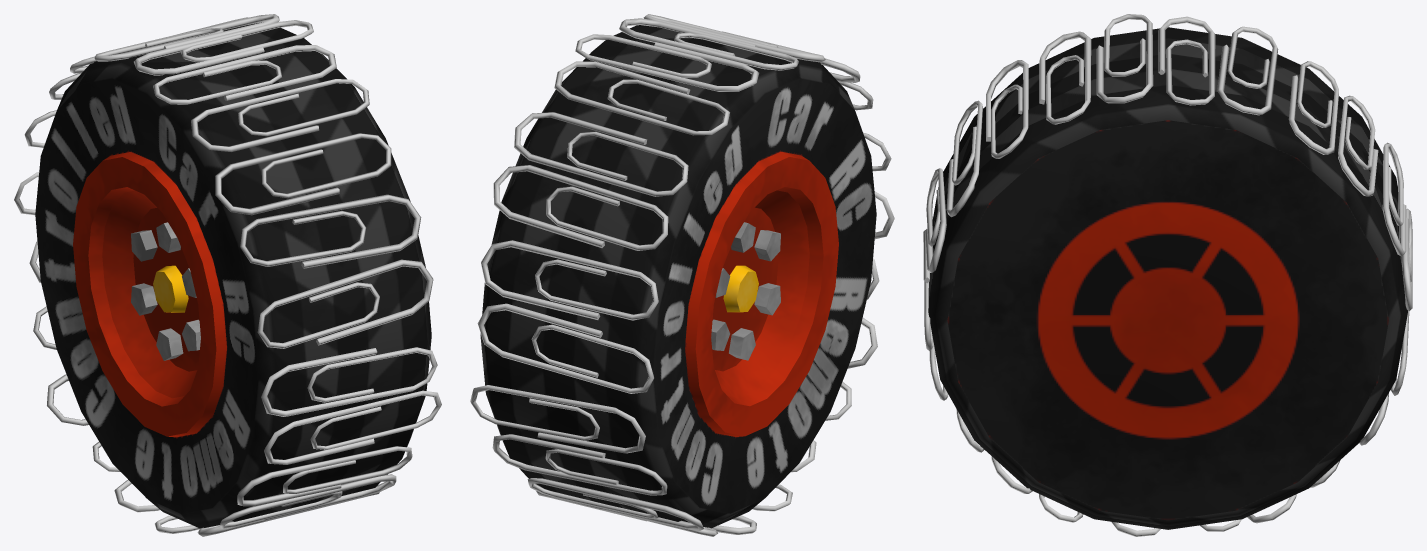
Rendered from Wheel_UPG1_Model.fbx.
3 views of the same model, side by side, from view 1: azimuth 30°, elevation 25°; view 2: azimuth 150°, elevation 25°; view 3: azimuth 270°, elevation 25° (orthographic).
Visible parts, largest first — view 1: Wheel_UPG1; view 2: Wheel_UPG1; view 3: Wheel_UPG1.
Part boxes in pixels (bbox=[...]): Wheel_UPG1: bbox=[14, 14, 441, 536]; Wheel_UPG1: bbox=[470, 14, 894, 536]; Wheel_UPG1: bbox=[923, 14, 1412, 536].
Size of the model in its own units: 3.44 by 7.47 by 7.47.
